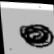correct: (17, 20, 54, 51)
